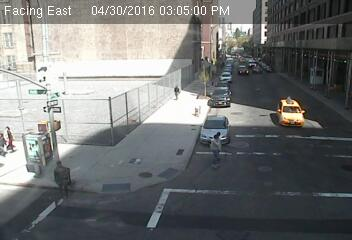neg: (286, 51, 310, 83), (228, 33, 251, 64), (283, 100, 305, 129), (131, 29, 152, 58), (259, 108, 280, 136), (328, 172, 348, 198), (44, 49, 63, 75), (99, 70, 118, 95), (33, 72, 52, 97), (25, 151, 44, 176), (72, 29, 90, 53), (137, 157, 154, 180), (211, 83, 228, 105), (86, 105, 102, 126), (163, 28, 179, 49), (138, 123, 153, 144), (159, 136, 174, 156), (282, 184, 296, 203), (94, 142, 105, 156), (45, 121, 54, 133), (51, 98, 59, 110)
pos: (45, 156, 76, 198), (198, 128, 227, 166), (167, 80, 187, 107)
